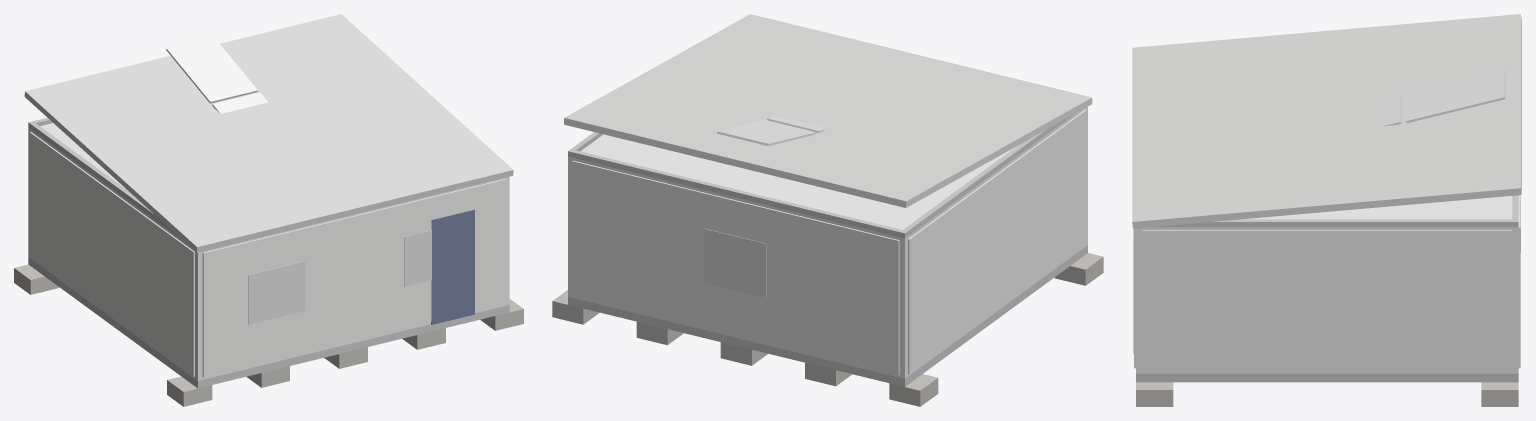
Rendered from Studio-20-SlopingRoof+FullSolar-LOD2.glb.
3 renders of one model, left to right at view 1: azimuth 30°, elevation 25°; view 2: azimuth 150°, elevation 25°; view 3: azimuth 270°, elevation 25°, orthographic. The views are drawn at different scales.
Visible parts, largest first — view 1: RoofSlopingUpgrade, ExteriorPanelsStandard, EntryDoor, WindowsStandard, FoundationBlocks, ExteriorShell, SolarPanelArray, BaseFrame, TopFrame, InteriorCeiling; view 2: ExteriorPanelsStandard, RoofSlopingUpgrade, InteriorCeiling, ExteriorShell, FoundationBlocks, TopFrame, BaseFrame, WindowsStandard, SolarPanelArray; view 3: RoofSlopingUpgrade, ExteriorPanelsStandard, ExteriorShell, BaseFrame, SolarPanelArray, InteriorCeiling, TopFrame, FoundationBlocks.
Part boxes in pixels (<box>): RoofSlopingUpgrade: <box>24,14,513,252</box>; ExteriorPanelsStandard: <box>29,132,505,377</box>; EntryDoor: <box>431,209,474,324</box>; WindowsStandard: <box>248,230,431,324</box>; FoundationBlocks: <box>14,264,523,406</box>; ExteriorShell: <box>28,127,509,380</box>; SolarPanelArray: <box>166,37,268,113</box>; BaseFrame: <box>28,257,509,388</box>; TopFrame: <box>28,117,181,239</box>; InteriorCeiling: <box>40,123,127,190</box>; ExteriorPanelsStandard: <box>572,109,1086,375</box>; RoofSlopingUpgrade: <box>564,14,1092,207</box>; InteriorCeiling: <box>581,134,1016,229</box>; ExteriorShell: <box>568,106,1087,378</box>; FoundationBlocks: <box>552,253,1103,406</box>; TopFrame: <box>568,113,1075,238</box>; BaseFrame: <box>568,245,1087,386</box>; WindowsStandard: <box>704,228,766,297</box>; SolarPanelArray: <box>717,116,826,145</box>; RoofSlopingUpgrade: <box>1132,14,1521,228</box>; ExteriorPanelsStandard: <box>1134,195,1520,371</box>; ExteriorShell: <box>1136,227,1518,373</box>; BaseFrame: <box>1136,373,1518,382</box>; SolarPanelArray: <box>1382,71,1505,126</box>; InteriorCeiling: <box>1244,196,1512,219</box>; TopFrame: <box>1152,195,1518,227</box>; FoundationBlocks: <box>1136,382,1518,406</box>.
Size of the model in its own units: 7.14 by 4.07 by 6.27.
